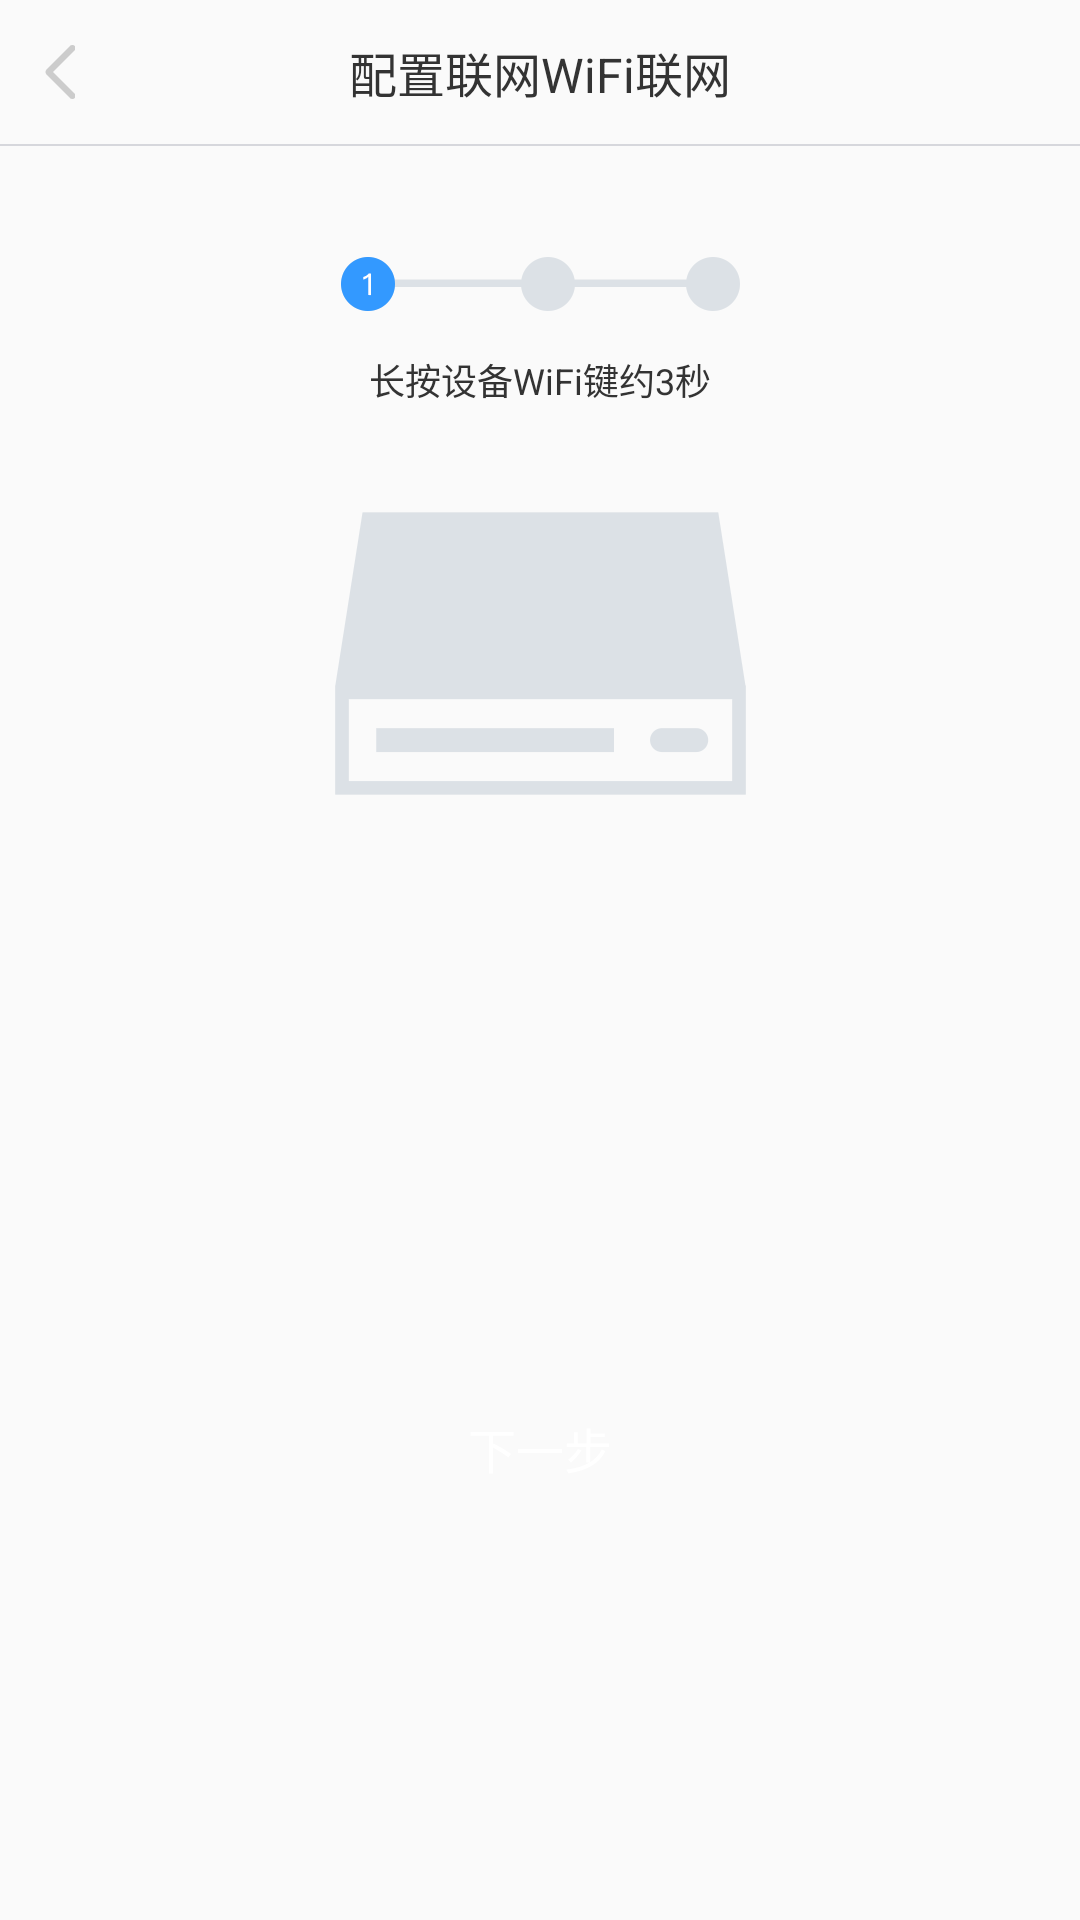

Where icons sit on this 1080×1920 app screen, as (x1, y1, x2, y2):
back: (46, 45, 75, 99)
